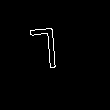L_S: (39, 28, 71, 82)
